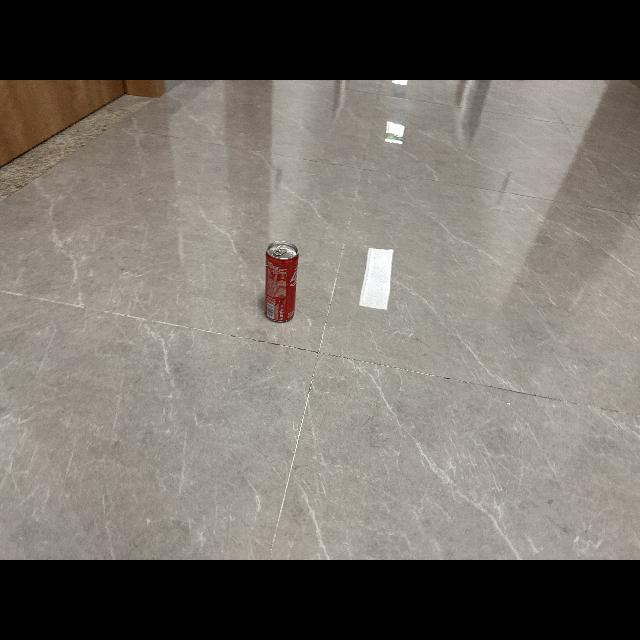Cola: (260, 236, 304, 326)
